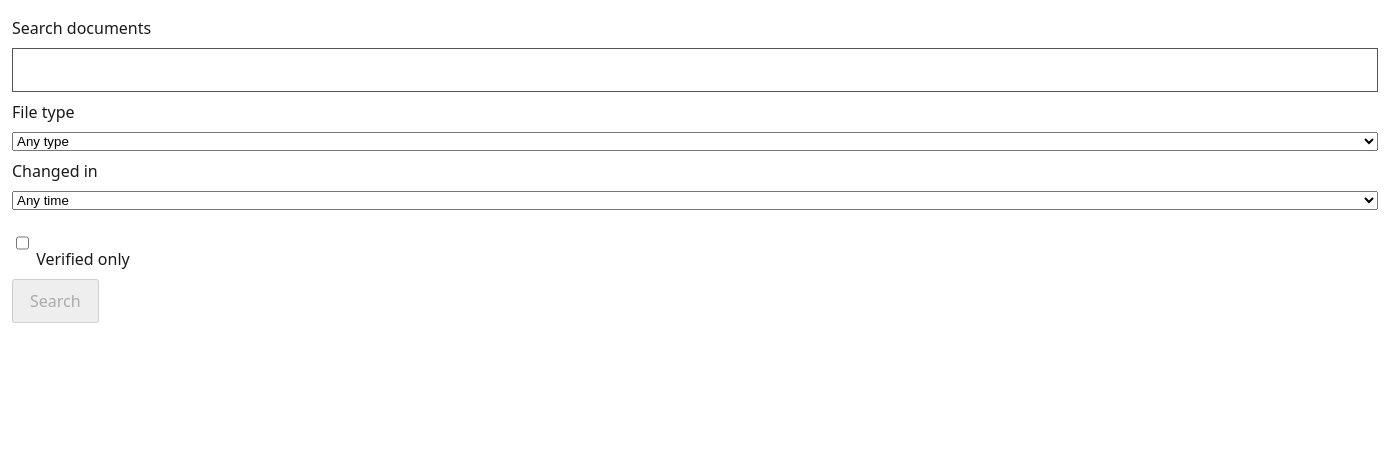
capture conversations › lists a space's decisions with no query
This screenshot has width=1390, height=475.
Select "Decisions" in the dropdown labelled "File type" at (695, 142), box [12,132,1378,151]
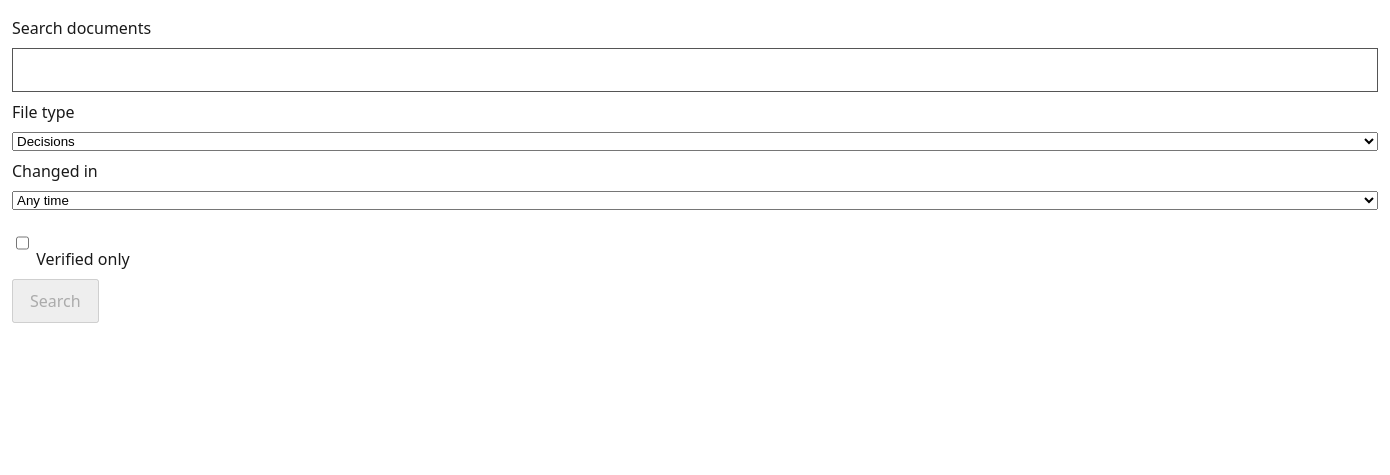
Submit the form
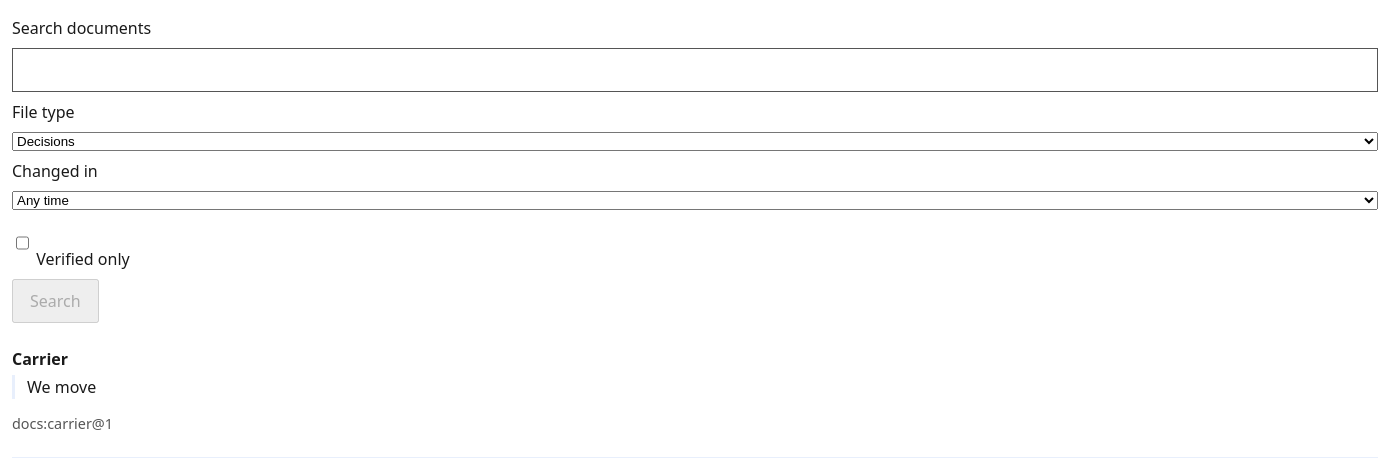
Expected: the text "Carrier" is shown, [12,348,68,370]
